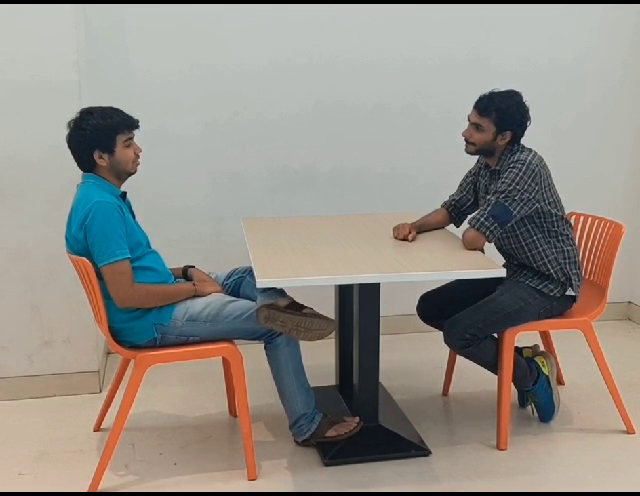person: (453, 82, 534, 163), (64, 101, 145, 182)
